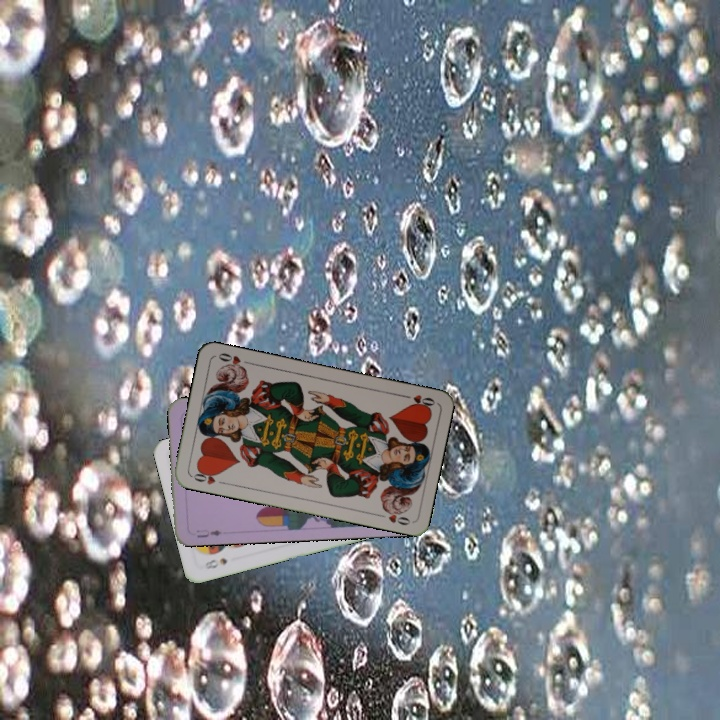EU: (193, 525, 224, 540)
HO: (397, 390, 438, 411), (188, 466, 228, 487)
S8: (201, 554, 230, 572)
